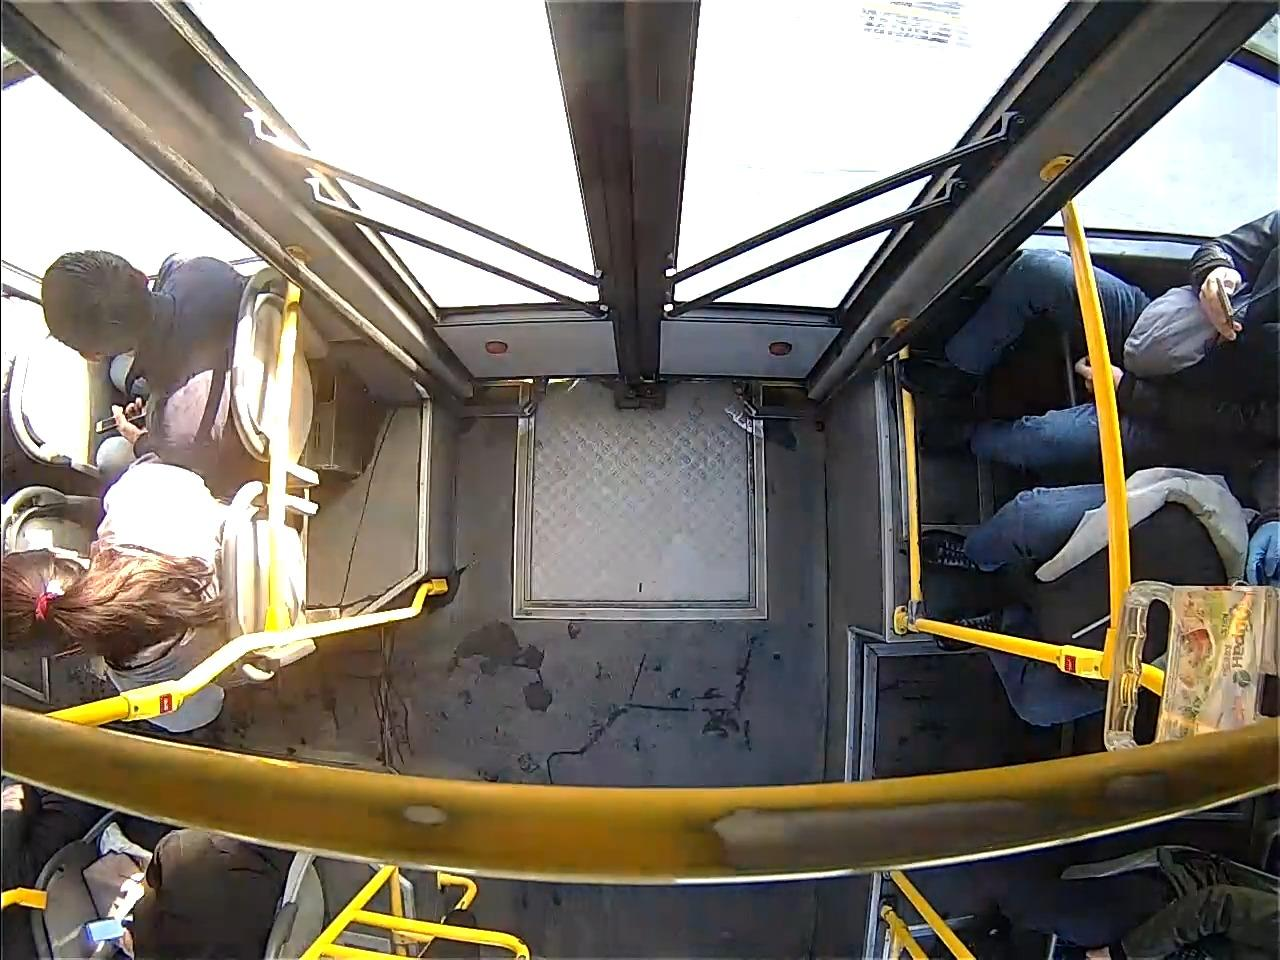close: (3, 0, 1261, 391)
